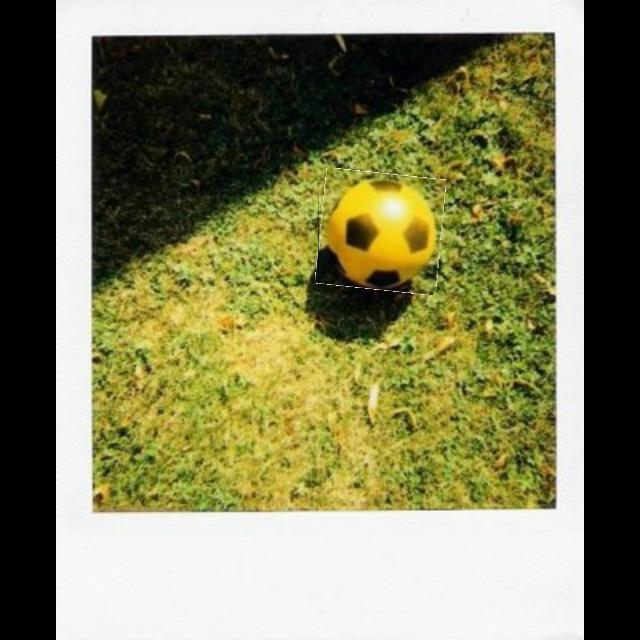Football: (318, 172, 444, 292)
